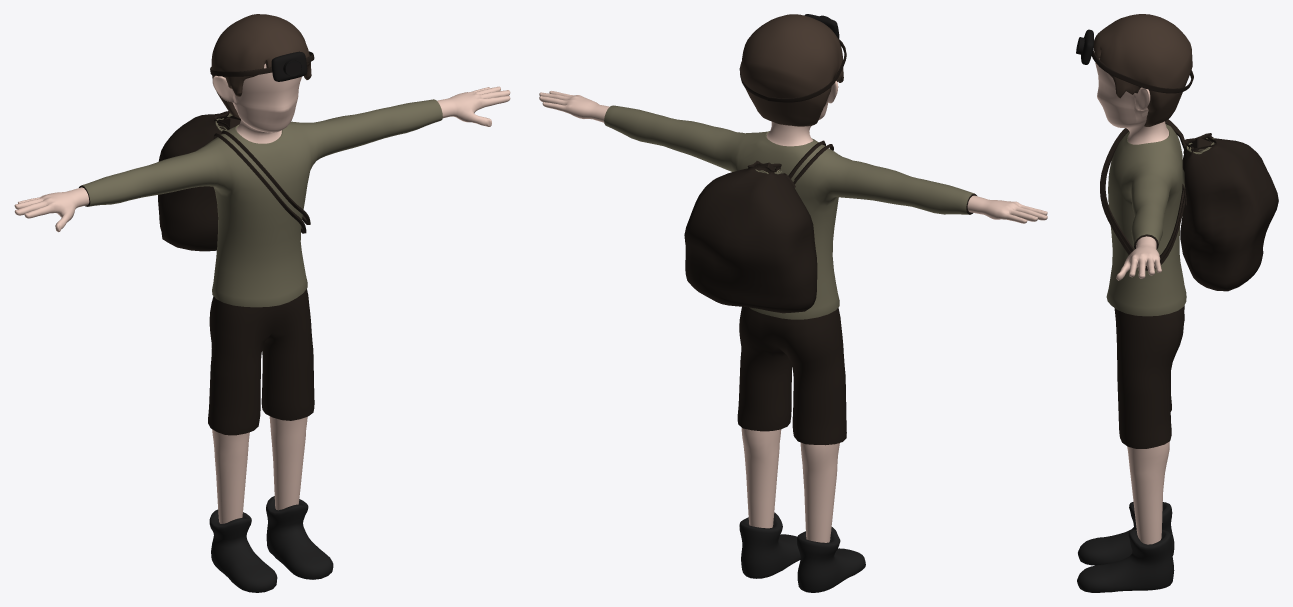
The model's file is MoleBoy2.fbx.
3 views of the same model, side by side, from view 1: azimuth 30°, elevation 25°; view 2: azimuth 150°, elevation 25°; view 3: azimuth 270°, elevation 25° (orthographic). The views are drawn at different scales.
Parts seen in each view (by area): view 1: wire5; view 2: wire5; view 3: wire5.
Boxes of the visible parts, <box> form: wire5: <box>14,14,510,592</box>; wire5: <box>539,14,1047,592</box>; wire5: <box>1076,14,1278,592</box>.
Bounding box in the file's own units: 136 × 143 × 47.29.
